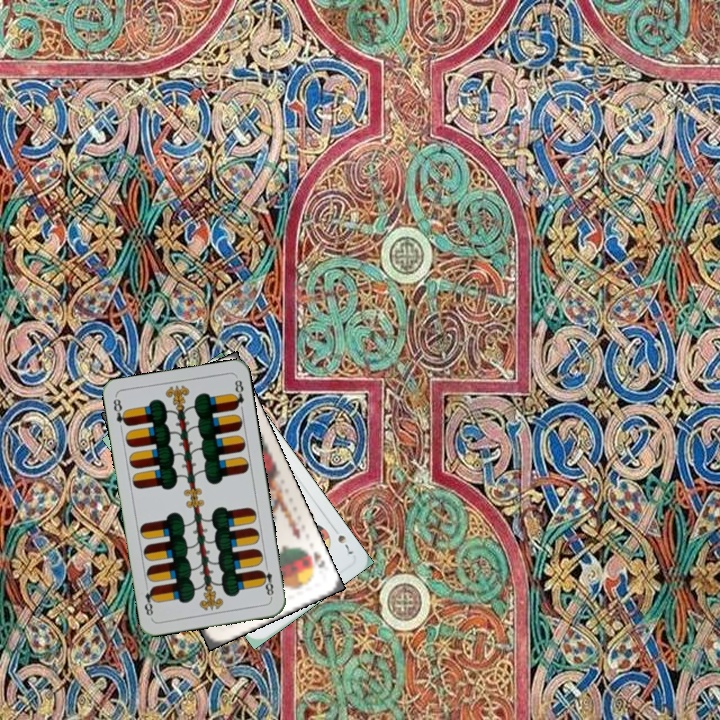E8: (256, 560, 276, 601), (109, 393, 131, 429)
S7: (328, 522, 356, 557)
SK: (300, 545, 328, 571)
